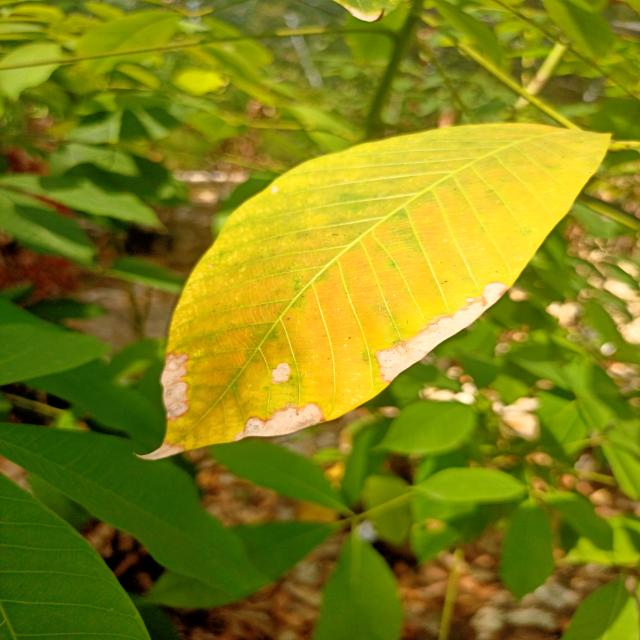Leaf-Blight: (374, 282, 506, 382), (234, 402, 326, 442), (160, 352, 190, 420), (133, 442, 186, 460), (271, 362, 290, 382)
